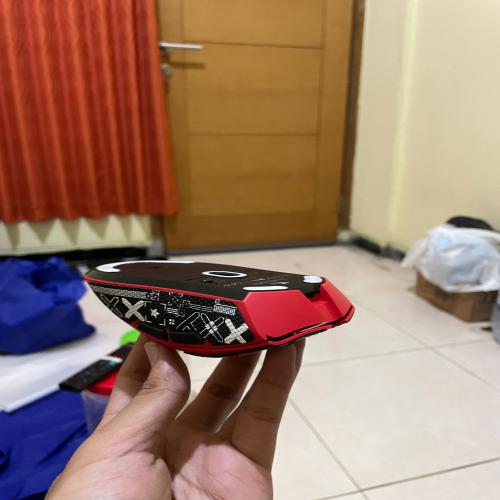mouse: (77, 240, 372, 374)
